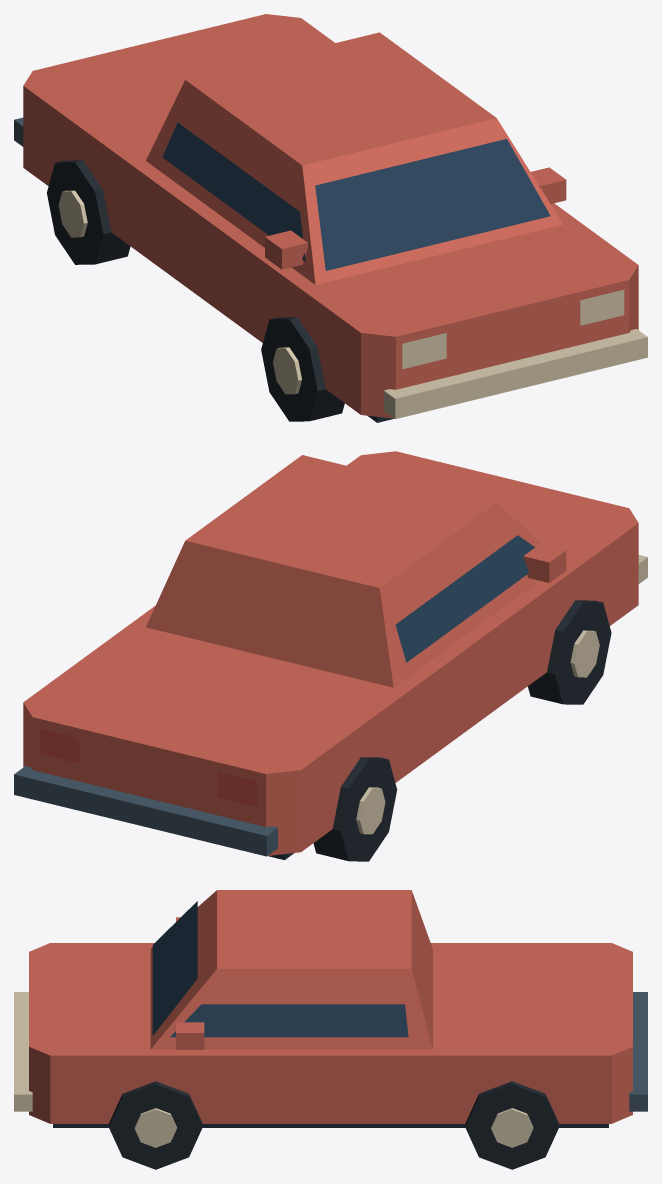
Rendered from car-sedan.glb.
3 renders of one model, top to bottom at view 1: azimuth 30°, elevation 25°; view 2: azimuth 150°, elevation 25°; view 3: azimuth 270°, elevation 25°, orthographic. The views are drawn at different scales.
Visible parts, largest first — view 1: asset_root; view 2: asset_root; view 3: asset_root.
Boxes of the visible parts, bbox=[...] form: asset_root: bbox=[14, 14, 647, 422]; asset_root: bbox=[14, 451, 647, 861]; asset_root: bbox=[14, 890, 647, 1169].
Bounding box in the file's own units: 1.85 × 1.27 × 4.04.
